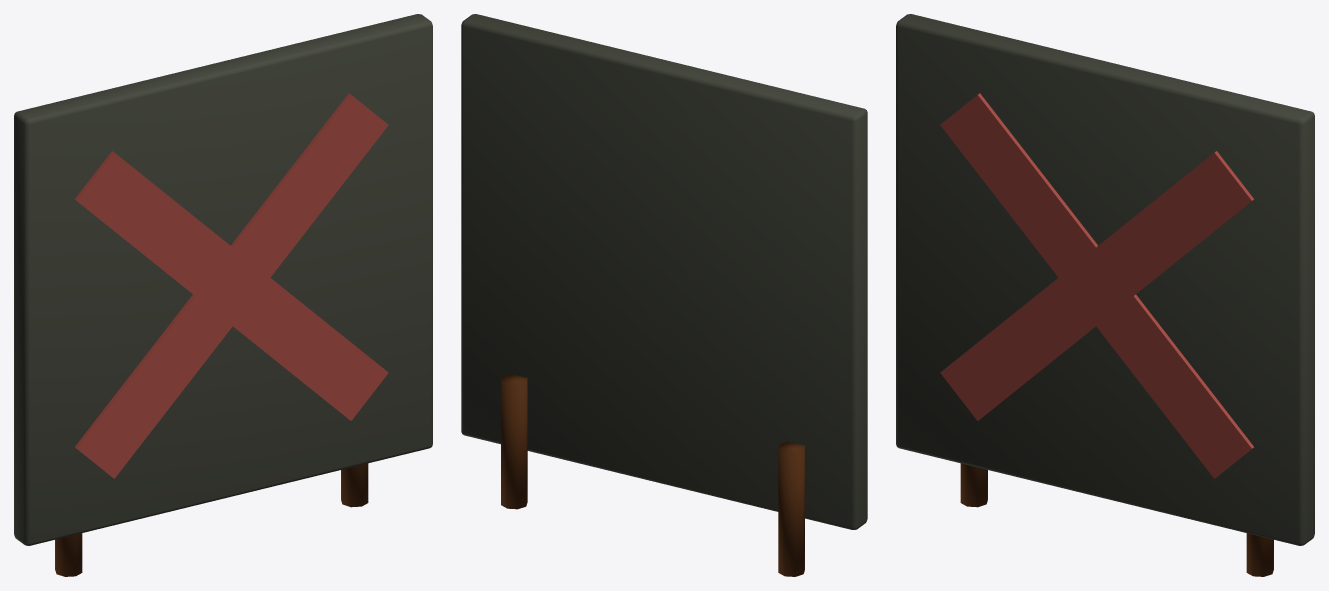
The model's file is tag.glb.
3 views of the same model, side by side, from view 1: azimuth 30°, elevation 25°; view 2: azimuth 150°, elevation 25°; view 3: azimuth 330°, elevation 25° (orthographic). The views are drawn at different scales.
Visible parts, largest first — view 1: board, x.001, x, leg1, leg2; view 2: board, leg1, leg2; view 3: board, x, x.001, leg2, leg1.
Part boxes in pixels (x1,y1,x2,y2): board: (14,14,432,545); x.001: (75,93,388,478); x: (75,151,388,420); leg1: (55,533,82,576); leg2: (341,463,368,507); board: (461,14,867,529); leg1: (778,441,804,576); leg2: (501,374,527,509); board: (896,14,1314,545); x: (940,93,1253,478); x.001: (940,151,1253,420); leg2: (1246,533,1273,576); leg1: (960,463,987,507).
Bounding box in the file's own units: 1 × 1.12 × 0.12.
